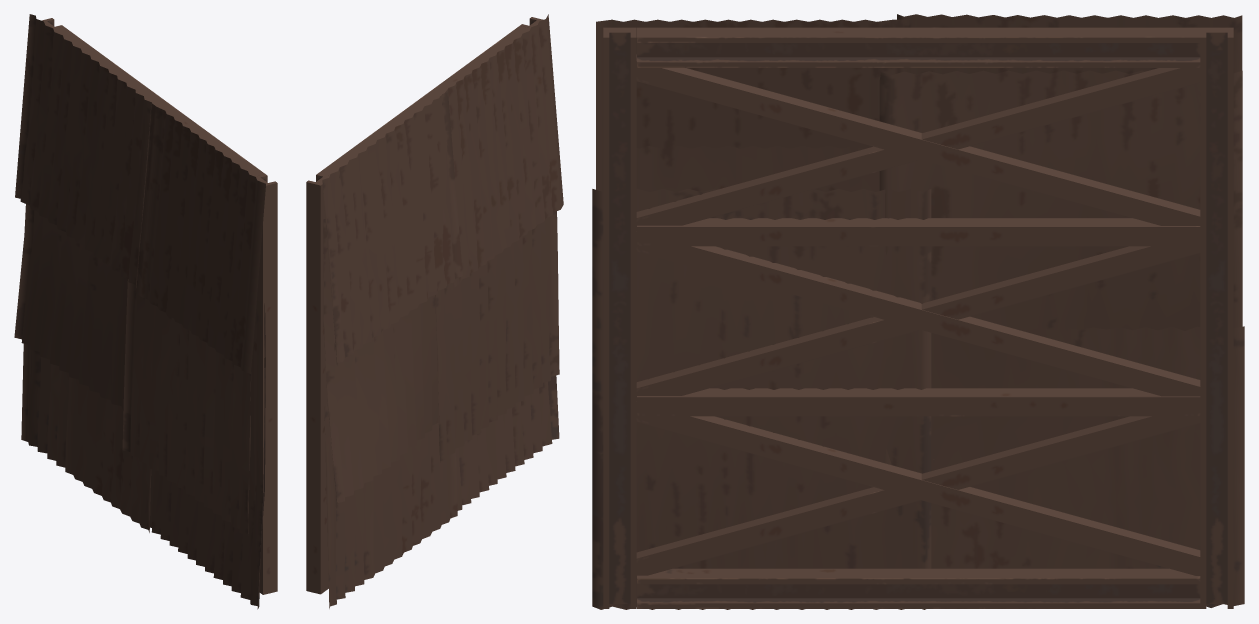
File: SM_Polygonal_Metal_Wall.fbx
The picture shows the model from 3 angles, left to right: view 1: azimuth 30°, elevation 25°; view 2: azimuth 150°, elevation 25°; view 3: azimuth 270°, elevation 25°; orthographic projection. The views are drawn at different scales.
Visible parts, largest first — view 1: SM_Polygonal_Metal_Wall_LOD0; view 2: SM_Polygonal_Metal_Wall_LOD0; view 3: SM_Polygonal_Metal_Wall_LOD0.
Boxes of the visible parts, bbox=[...] form: SM_Polygonal_Metal_Wall_LOD0: bbox=[14, 14, 277, 609]; SM_Polygonal_Metal_Wall_LOD0: bbox=[306, 14, 563, 608]; SM_Polygonal_Metal_Wall_LOD0: bbox=[592, 14, 1244, 609].
Size of the model in its own units: 27.73 by 310 by 312.
1 material, 1 textured.
